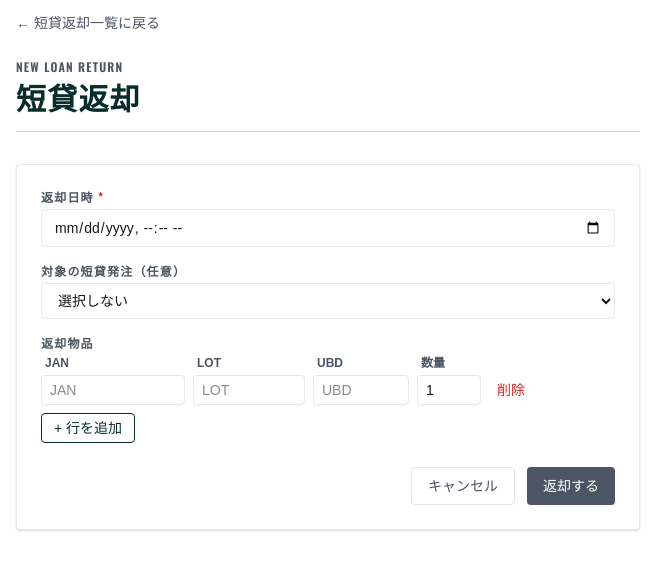
Test case: NewLoanReturnPage › 対象を選んだのに返す数量が 0 のままなら送信しない
Select "PCI（メドトロニック）" in the dropdown labelled "対象の短貸発注（任意）" at [328, 301], box x1=41 y1=283 x2=615 y2=319
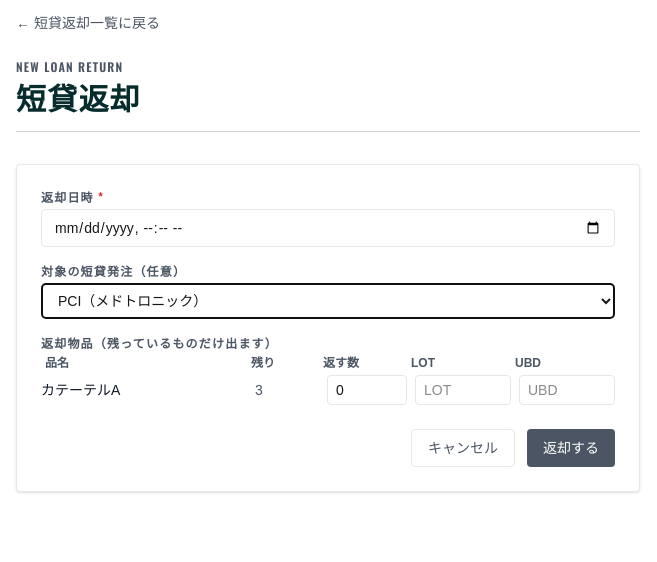
expect the number field named "カテーテルA の返す数" is shown: met, box x1=327 y1=375 x2=407 y2=405
Type "2026-06-24T15:00" into the field labelled "返却日時 *".
click(328, 228); type("2026-06-24T15:00")  # box x1=41 y1=209 x2=615 y2=247
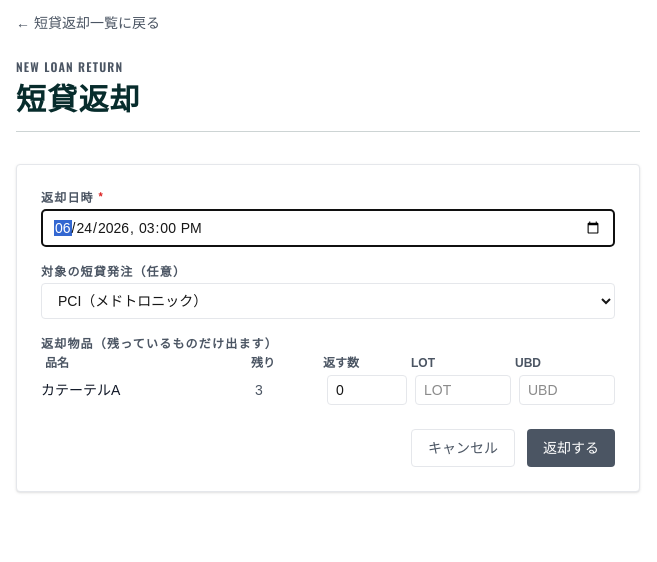
Click the button "返却する".
click(571, 448)  # box x1=527 y1=429 x2=615 y2=467
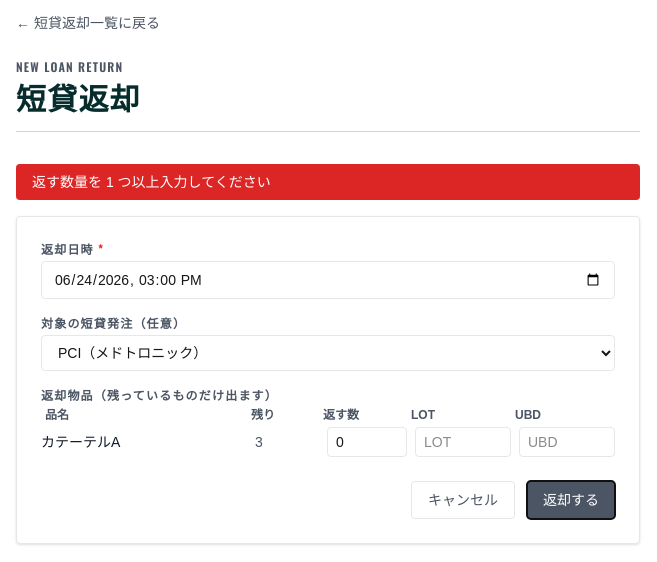
expect the text "返す数量を 1 つ以上入力してください" is shown: met, box x1=16 y1=164 x2=640 y2=200
